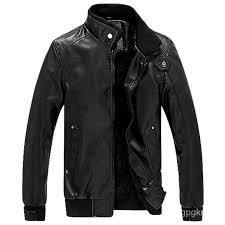jacket: (9, 2, 213, 225)
